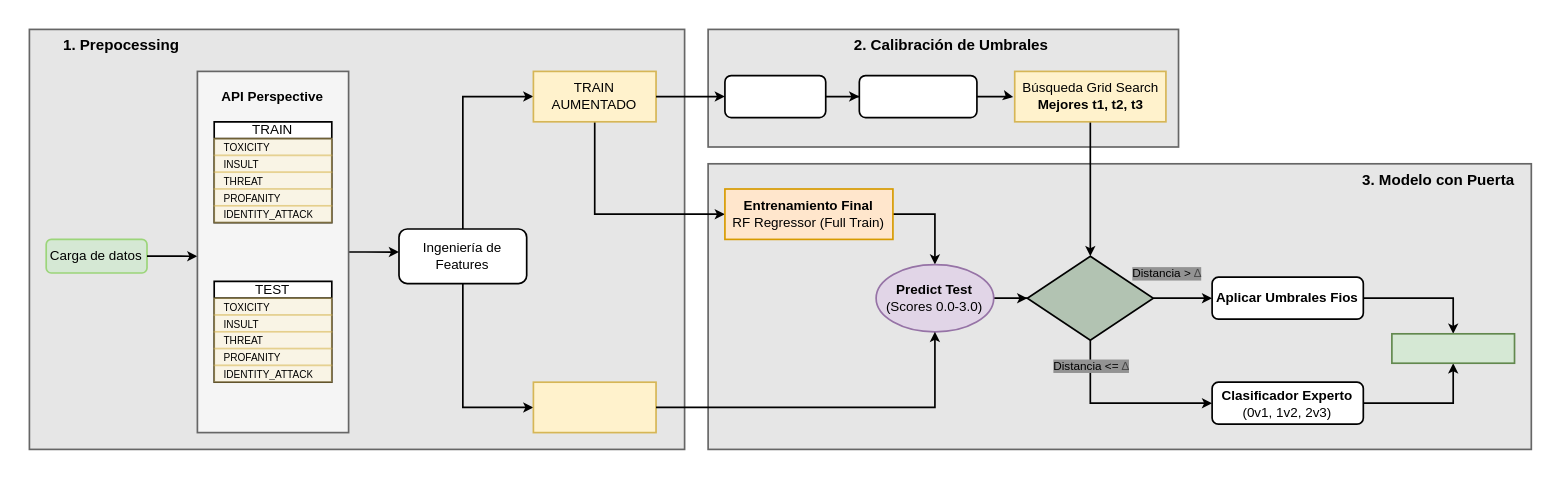
This 1561x479 diagram has some shape labels left out. Here are the shapes that lost their labels. From the top down, the box of each, then its label:
(723, 74, 826, 118): K-Fold
(858, 74, 977, 118): RF Regressor
(1026, 255, 1153, 340): Puerta Lógica
(1390, 332, 1515, 363): Submission CSV
(532, 381, 656, 433): TEST AUMENTADO
